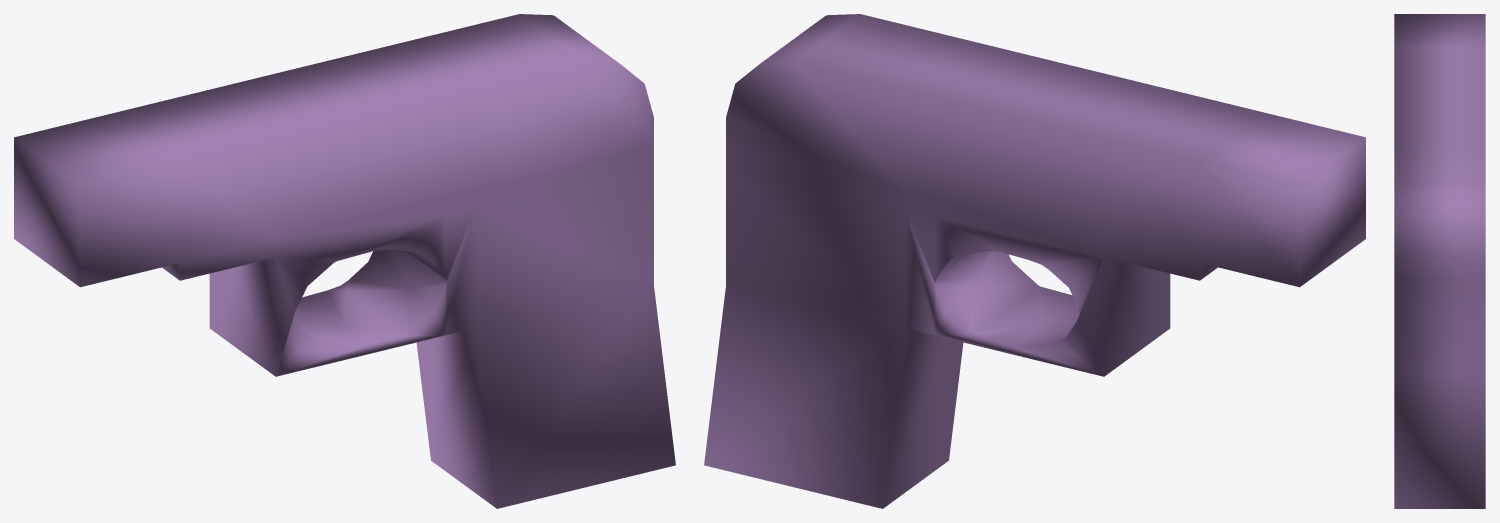
File: sungluc01.fbx
3 views of the same model, side by side, from view 1: azimuth 30°, elevation 25°; view 2: azimuth 150°, elevation 25°; view 3: azimuth 270°, elevation 25° (orthographic). The views are drawn at different scales.
Visible parts, largest first — view 1: Sung luc; view 2: Sung luc; view 3: Sung luc.
Boxes of the visible parts, x1,y1,x2,y2 form: Sung luc: (14,14,675,508); Sung luc: (704,14,1365,508); Sung luc: (1394,14,1485,508).
Bounding box in the file's own units: 383 × 261 × 73.61.
